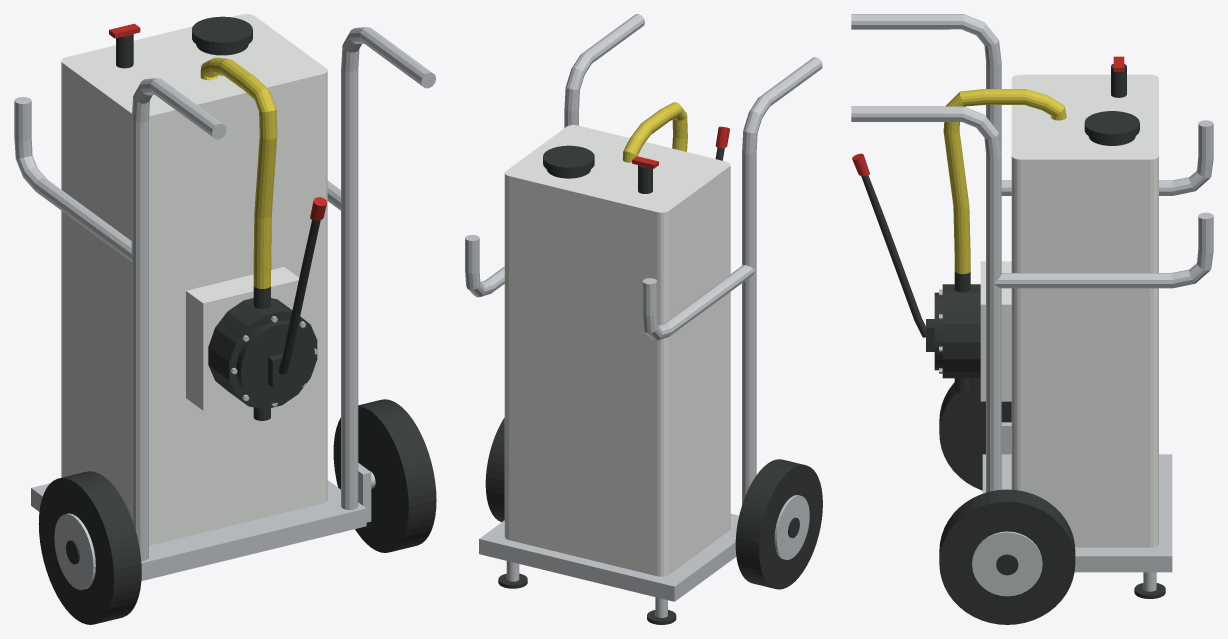
The picture shows the model from 3 angles, left to right: view 1: azimuth 30°, elevation 25°; view 2: azimuth 150°, elevation 25°; view 3: azimuth 270°, elevation 25°; orthographic projection. The views are drawn at different scales.
Visible parts, largest first — view 1: Collection_tank_25gal, Tubular_push_frame_-1, Tubular_push_frame_1, Pneumatic_tire_-1, Pneumatic_tire_1, Base_tray, Pump_mount_plate, Short_yellow_connecting_hose, Pump_cover, Diaphragm_pump_body, Wheel_rim_-1, Lever_pivot_lug (+3 smaller); view 2: Collection_tank_25gal, Tubular_push_frame_-1, Pneumatic_tire_-1, Base_tray, Tubular_push_frame_1, Short_yellow_connecting_hose, Wheel_rim_-1, Pneumatic_tire_1, Four_inch_access_cap; view 3: Collection_tank_25gal, Tubular_push_frame_1, Pneumatic_tire_1, Tubular_push_frame_-1, Short_yellow_connecting_hose, Base_tray, Pneumatic_tire_-1, Diaphragm_pump_body, Wheel_rim_1, Pump_mount_plate, Lever_pivot_lug, Four_inch_access_cap (+1 smaller).
Boxes of the visible parts, x1,y1,x2,y2 form: Collection_tank_25gal: (61,14,327,545); Tubular_push_frame_-1: (14,78,226,560); Tubular_push_frame_1: (327,27,435,509); Pneumatic_tire_-1: (38,471,141,624); Pneumatic_tire_1: (333,399,436,552); Base_tray: (31,480,366,580); Pump_mount_plate: (186,267,301,410); Short_yellow_connecting_hose: (200,57,277,288); Pump_cover: (236,320,314,403); Diaphragm_pump_body: (208,298,317,409); Wheel_rim_-1: (54,513,95,590); Lever_pivot_lug: (268,220,320,387); Collection_tank_25gal: (504,125,730,576); Tubular_push_frame_-1: (642,57,822,504); Pneumatic_tire_-1: (735,459,822,589); Base_tray: (479,513,738,601); Tubular_push_frame_1: (465,14,644,297); Short_yellow_connecting_hose: (622,102,687,162); Wheel_rim_-1: (774,495,809,559); Pneumatic_tire_1: (485,417,504,522); Four_inch_access_cap: (543,145,594,174); Collection_tank_25gal: (1011,74,1158,547); Tubular_push_frame_1: (851,106,1213,492); Pneumatic_tire_1: (939,489,1075,624); Tubular_push_frame_-1: (851,14,1213,195); Short_yellow_connecting_hose: (943,89,1066,274); Base_tray: (982,454,1172,572); Pneumatic_tire_-1: (939,378,1011,490); Diaphragm_pump_body: (942,284,980,378); Wheel_rim_1: (972,531,1042,596); Pump_mount_plate: (980,261,1011,401); Lever_pivot_lug: (861,175,934,351); Four_inch_access_cap: (1084,111,1139,141).
Bounding box in the file's own units: 0.7747 × 1.22 × 0.8128.
